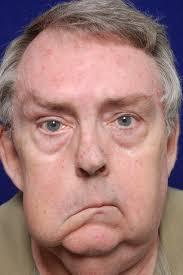strokeEyeMid: (21, 87, 160, 147)
strokeMouthSevere: (52, 194, 130, 230)
